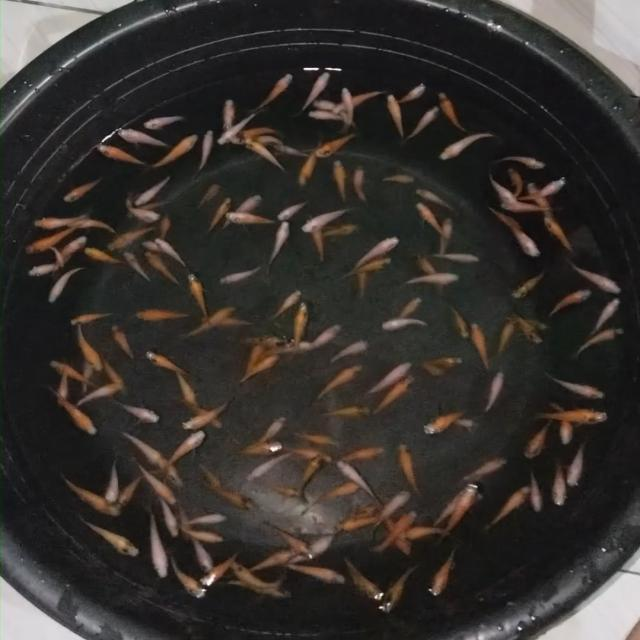nila: (79, 516, 142, 560), (62, 476, 121, 520), (309, 363, 365, 407), (160, 426, 210, 474), (134, 453, 180, 505), (298, 474, 360, 512), (48, 388, 96, 436), (288, 524, 342, 566), (563, 257, 624, 294), (484, 484, 532, 530), (374, 506, 419, 554), (226, 576, 299, 605), (336, 458, 382, 504), (440, 483, 477, 540), (181, 393, 237, 430), (266, 521, 320, 559), (173, 390, 224, 430), (540, 370, 608, 400), (426, 487, 473, 530), (344, 554, 384, 604), (372, 373, 416, 418), (216, 188, 263, 230), (149, 130, 199, 169), (379, 563, 417, 614), (228, 558, 292, 588), (438, 129, 496, 162), (350, 232, 400, 270), (145, 508, 171, 580), (178, 306, 236, 338), (231, 350, 281, 387), (120, 430, 168, 468), (168, 557, 210, 600), (27, 220, 77, 256), (361, 360, 417, 392), (285, 558, 350, 585), (241, 452, 292, 486), (392, 439, 424, 492), (216, 108, 260, 146), (72, 322, 106, 371), (296, 449, 324, 507), (206, 483, 262, 512), (545, 285, 594, 318), (108, 220, 158, 252), (377, 486, 415, 528), (49, 361, 108, 388), (575, 324, 624, 356), (242, 136, 288, 170), (75, 378, 127, 408), (52, 232, 89, 274), (256, 70, 294, 110), (428, 546, 457, 598), (246, 545, 298, 574), (296, 136, 326, 186), (308, 95, 356, 126), (381, 513, 414, 558), (586, 296, 623, 336), (134, 170, 176, 205), (48, 264, 84, 304), (299, 66, 330, 112), (200, 551, 240, 586), (413, 185, 464, 212), (187, 129, 214, 180), (332, 498, 375, 530), (300, 207, 349, 235), (143, 350, 192, 378), (382, 91, 406, 148), (151, 452, 187, 489), (328, 338, 381, 363), (403, 104, 443, 137), (412, 248, 445, 288), (332, 88, 382, 114), (238, 332, 264, 382), (519, 173, 567, 200), (414, 200, 448, 238), (118, 464, 147, 508), (466, 318, 490, 371), (312, 130, 357, 158), (220, 125, 286, 144), (98, 144, 146, 170), (116, 128, 172, 150), (61, 175, 102, 205), (102, 356, 132, 397), (156, 236, 192, 270), (202, 196, 234, 234), (421, 404, 464, 432), (437, 90, 467, 130), (460, 457, 508, 482), (146, 250, 180, 285), (542, 214, 574, 251), (330, 510, 377, 535), (538, 410, 611, 426), (236, 331, 297, 350), (269, 285, 303, 319), (526, 177, 554, 218), (506, 268, 544, 298), (110, 319, 135, 364), (221, 207, 277, 227), (525, 418, 551, 461), (511, 219, 538, 260), (484, 368, 508, 414), (400, 270, 460, 288), (252, 414, 288, 444), (497, 148, 546, 170), (348, 255, 397, 277), (551, 401, 576, 444), (290, 298, 312, 346), (124, 250, 155, 284), (311, 318, 344, 349), (260, 482, 311, 502), (125, 194, 171, 216), (116, 403, 164, 424), (430, 245, 480, 265), (376, 314, 431, 332), (68, 218, 122, 236), (513, 310, 540, 346), (218, 264, 264, 285), (186, 272, 207, 318), (192, 537, 218, 574), (267, 221, 289, 264), (172, 503, 194, 546), (156, 490, 176, 537), (483, 200, 514, 230), (490, 173, 520, 204), (497, 312, 517, 358), (498, 198, 552, 215), (282, 448, 336, 465), (567, 442, 586, 490), (312, 404, 376, 418), (398, 526, 450, 543), (31, 215, 94, 229), (236, 442, 280, 462), (68, 308, 112, 328), (124, 196, 160, 220), (336, 445, 384, 463), (506, 314, 554, 332), (86, 245, 125, 267), (446, 302, 469, 339), (353, 166, 372, 210), (527, 466, 544, 515), (392, 294, 424, 320), (176, 369, 198, 406), (288, 430, 342, 445), (552, 457, 568, 507), (437, 216, 455, 260), (340, 82, 355, 134), (78, 351, 96, 394), (272, 338, 323, 353), (310, 220, 328, 262), (317, 220, 359, 238), (276, 199, 310, 221), (196, 180, 222, 208), (140, 114, 188, 129), (180, 509, 228, 524), (135, 308, 186, 322), (55, 363, 72, 405), (332, 158, 348, 202), (422, 354, 468, 369), (26, 260, 68, 276), (440, 416, 487, 430), (274, 140, 310, 158), (221, 94, 237, 133), (201, 317, 253, 329), (105, 458, 118, 506), (354, 254, 368, 298), (180, 528, 224, 542), (194, 462, 223, 483), (250, 130, 288, 146), (304, 112, 352, 124), (398, 82, 428, 101), (48, 240, 68, 268), (507, 163, 522, 200), (140, 238, 179, 252), (414, 361, 442, 380), (157, 207, 170, 241), (382, 172, 417, 184)
